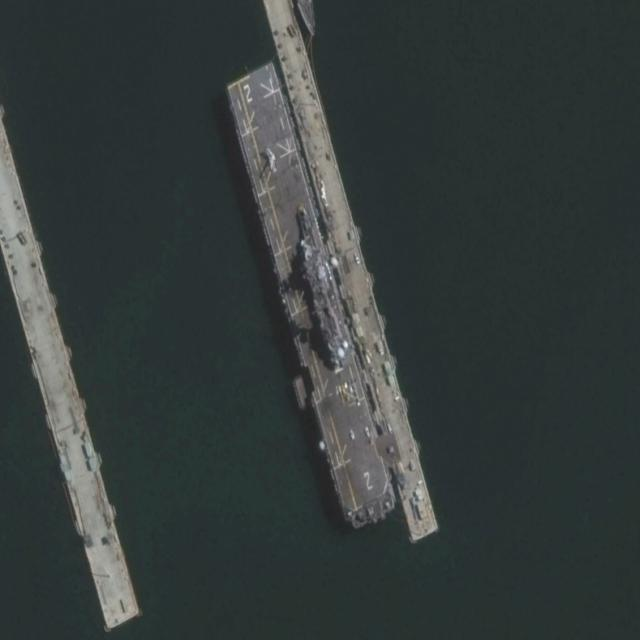Landing: (210, 57, 400, 542)
